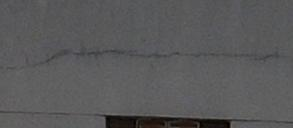fissura: (0, 43, 285, 77)
